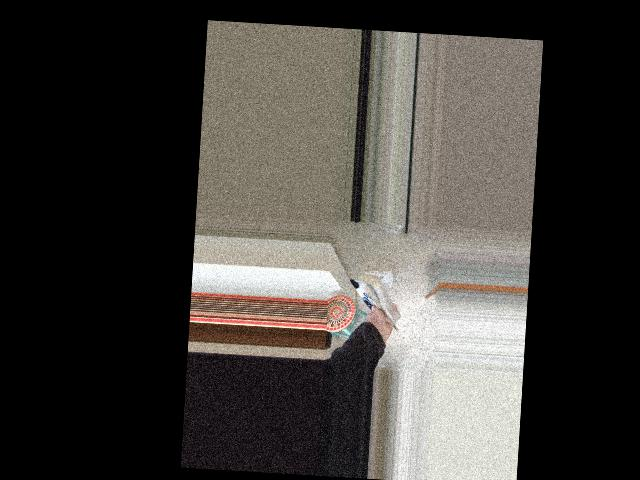cheese: (338, 263, 410, 341)
